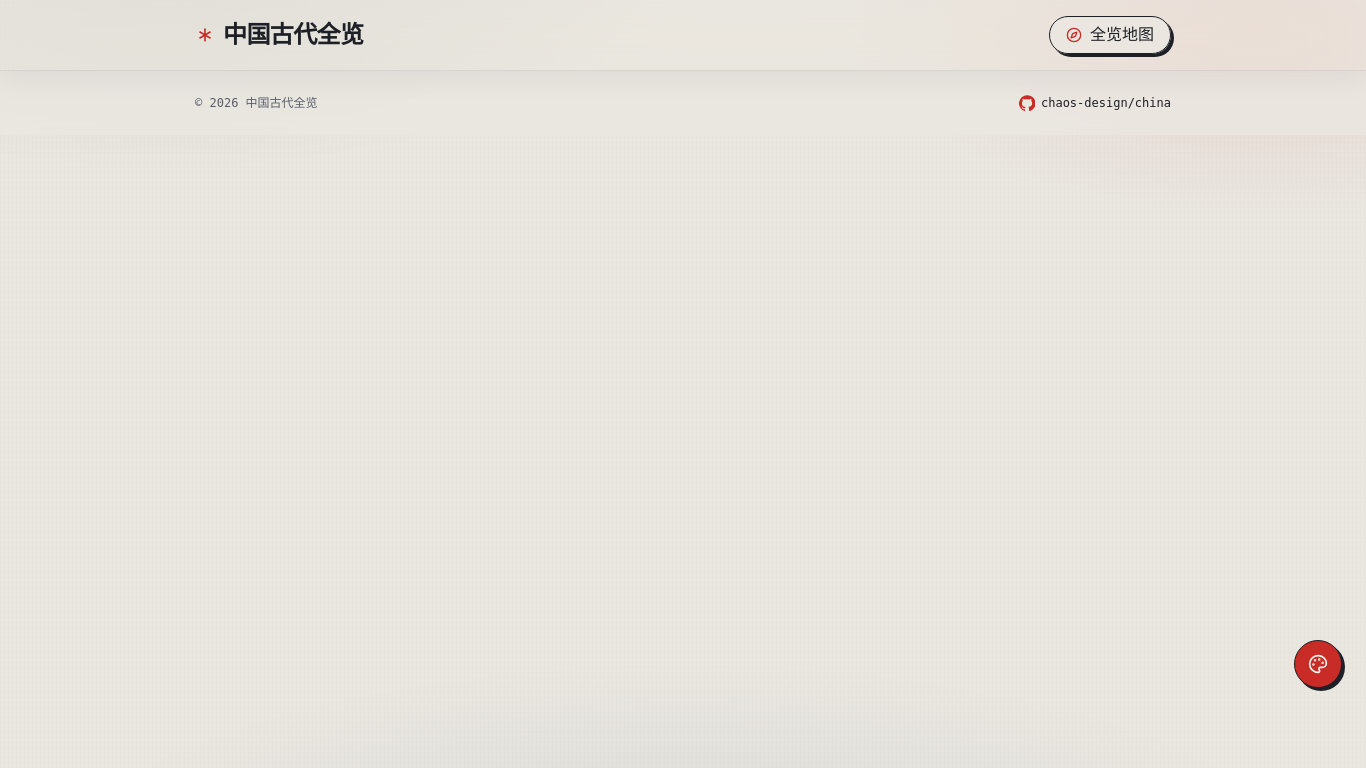
Test case: <SiteMenu /> columns and content › sets category titles in a different typeface from the entries, with no counters
Click the button "全览地图": (1110, 35) top-left (1049, 16), bottom-right (1171, 54)
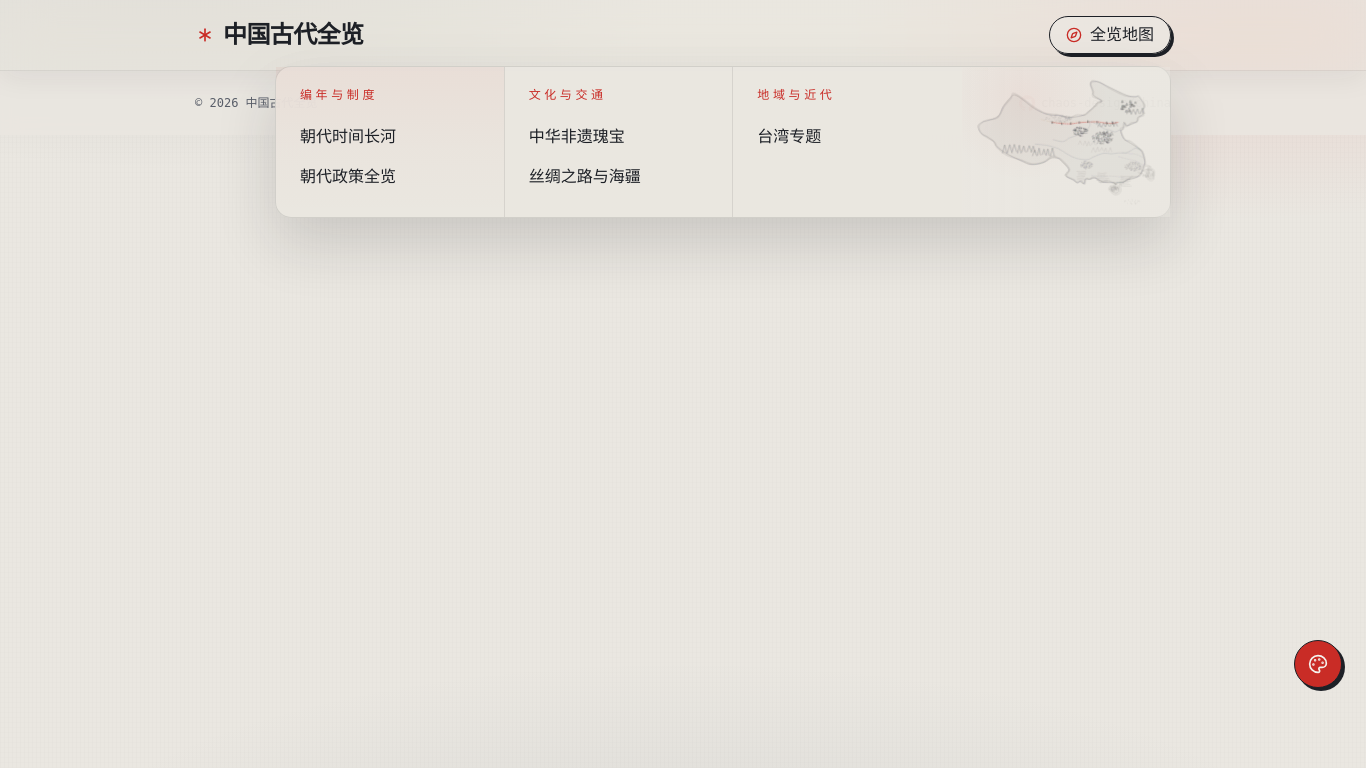
Now the text "朝代时间长河" is shown, box top-left (300, 128), bottom-right (396, 145)
Now the text "朝代政策全览" is shown, box top-left (300, 168), bottom-right (396, 185)
Now the text "中华非遗瑰宝" is shown, box top-left (529, 128), bottom-right (625, 145)
